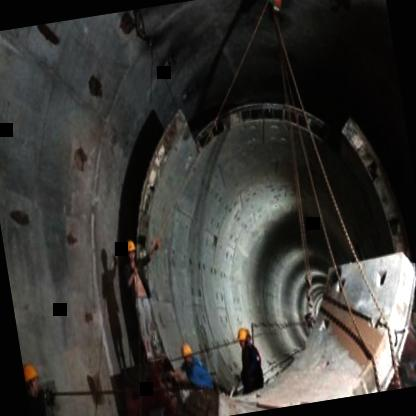helmet: (22, 358, 42, 399), (178, 338, 198, 368), (235, 325, 253, 351), (124, 234, 140, 262)
